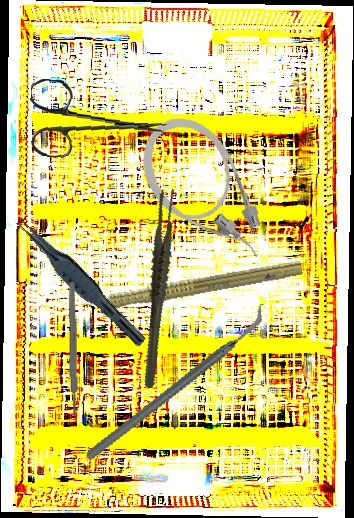Cannula: (125, 101, 282, 286)
Chopper: (60, 303, 292, 462)
Handpiece: (65, 250, 304, 321)
Iris Scissors: (26, 78, 170, 165)
Scalpel Handle: (67, 281, 79, 415)
Tissue Forceps: (106, 184, 210, 391), (8, 213, 154, 349)
